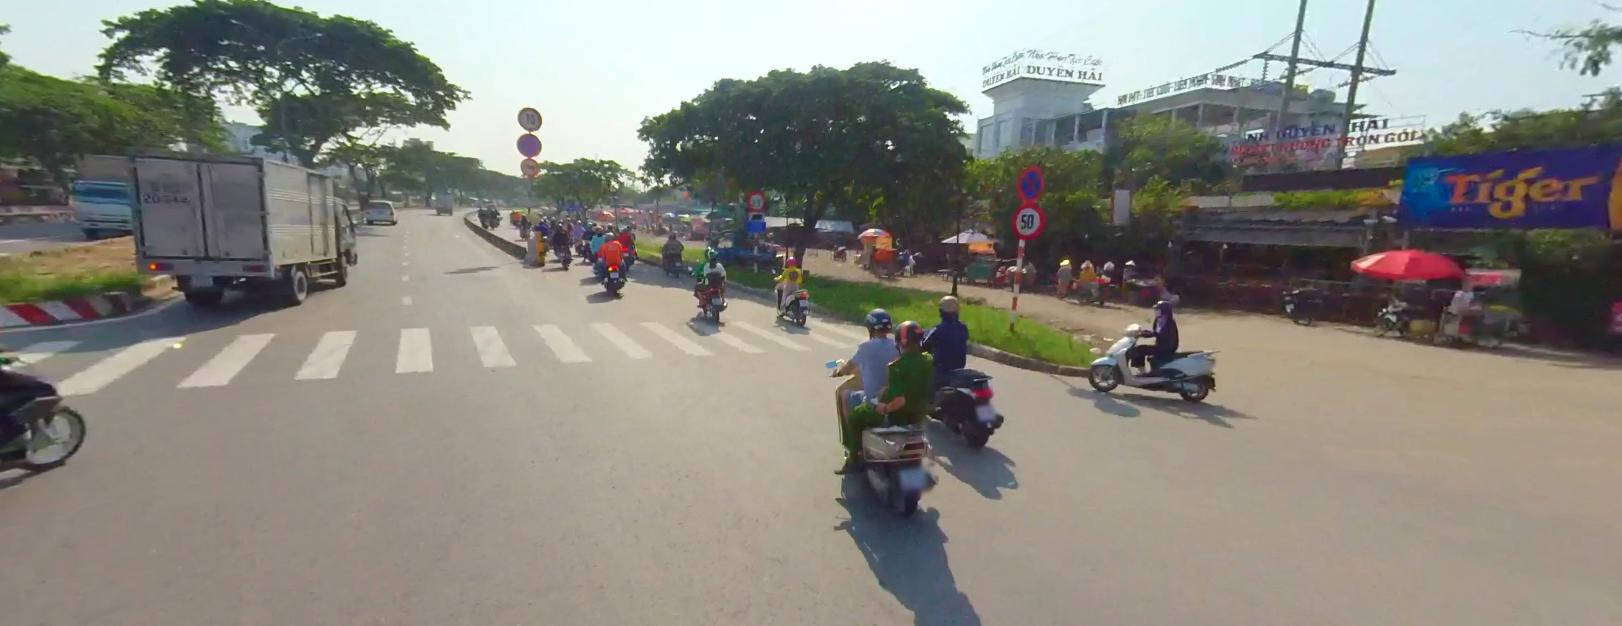Cam con lai: (747, 189, 765, 211), (520, 157, 538, 175)
Cam dung va do: (1016, 163, 1044, 200), (516, 133, 542, 157)
Gioi han toc do: (1012, 201, 1045, 238), (516, 106, 542, 130)
